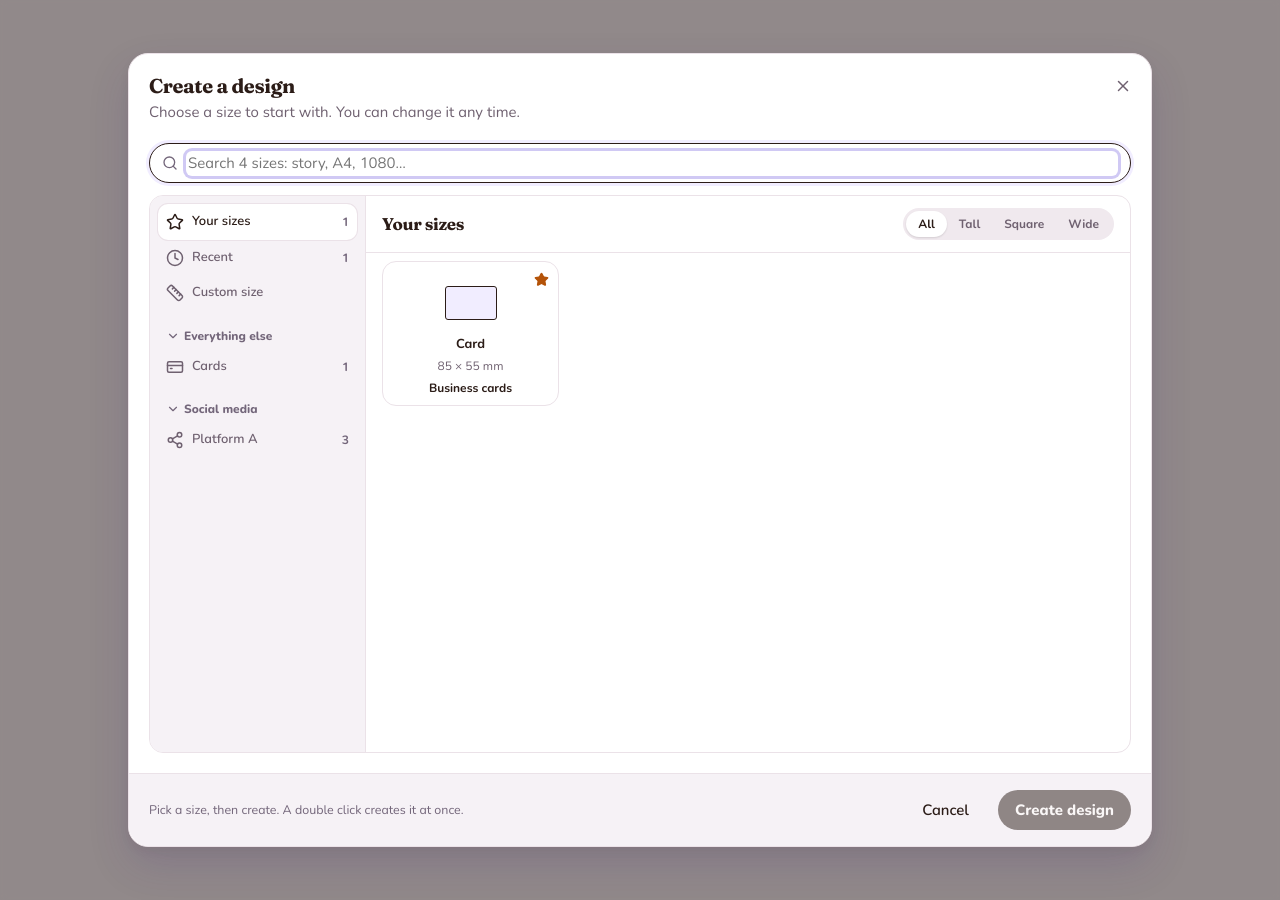
Scenario: Create a design dialog › pins a size to your sizes and shows recent ones
The image size is (1280, 900).
Click the button "Recent 1". click: coordinates (258, 258)
box: top-left (158, 240), bottom-right (357, 275)
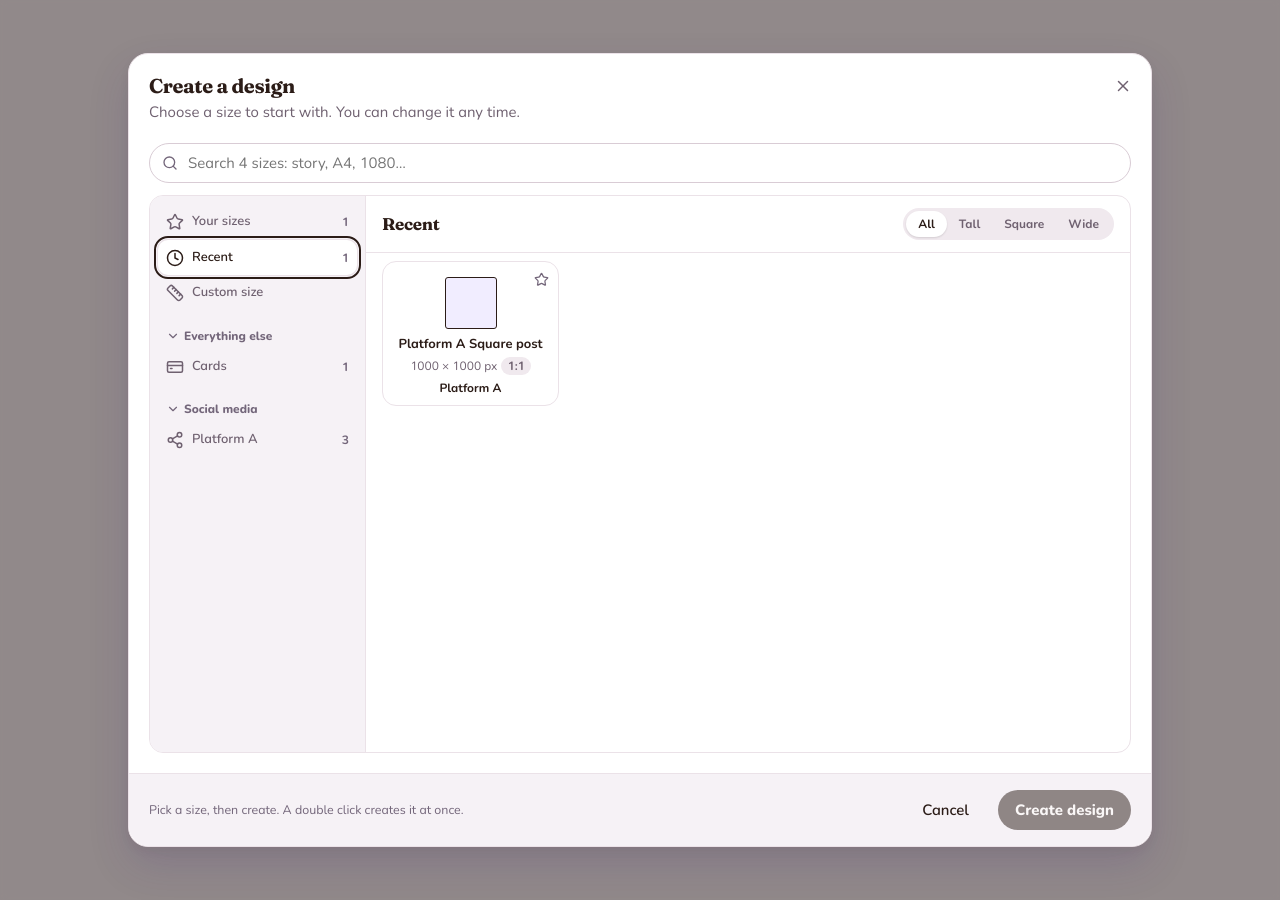
Click the button named "Add to your sizes". click: coordinates (541, 279)
box: top-left (527, 265), bottom-right (555, 293)
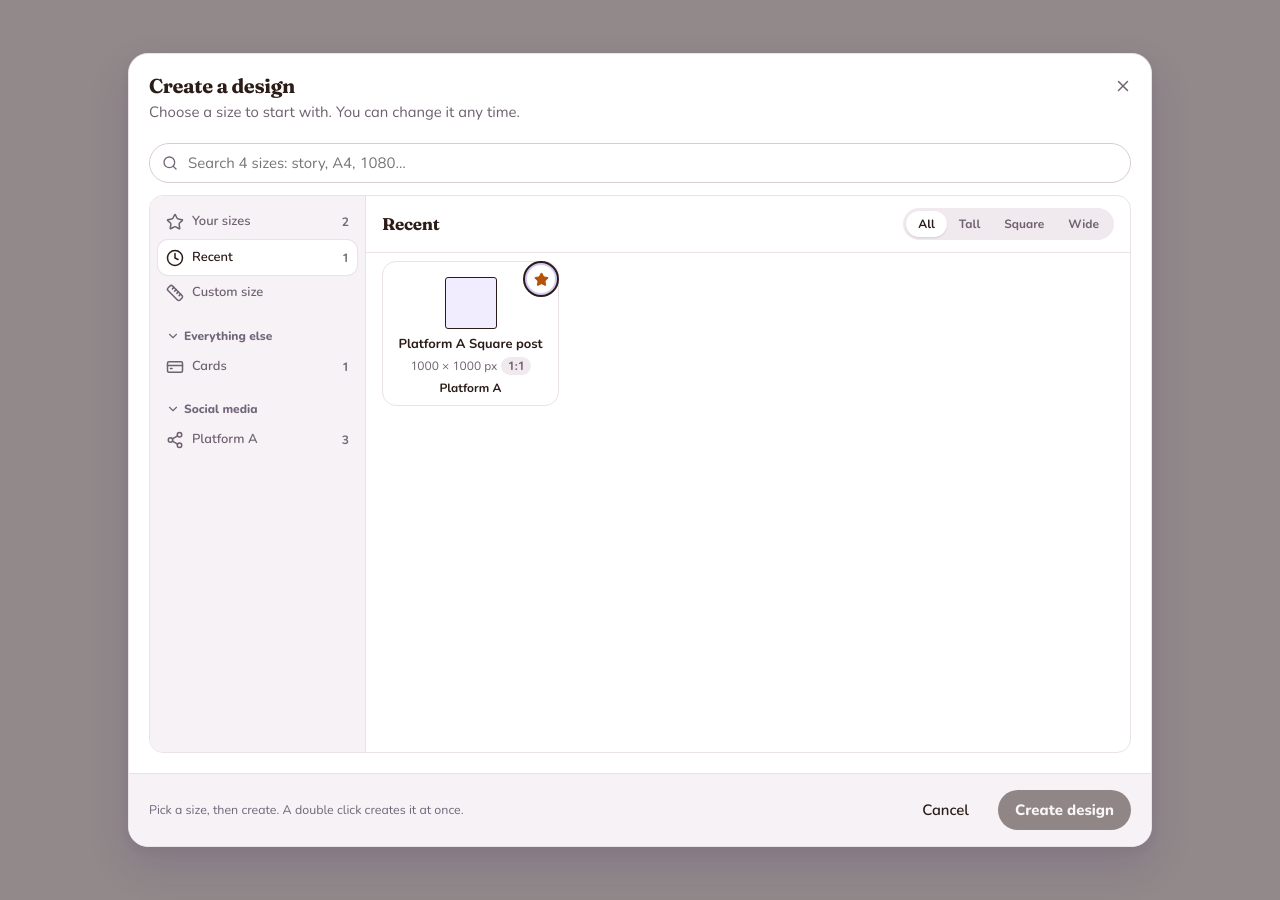
Click the button "Your sizes 2". click: coordinates (258, 222)
box: top-left (158, 204), bottom-right (357, 240)
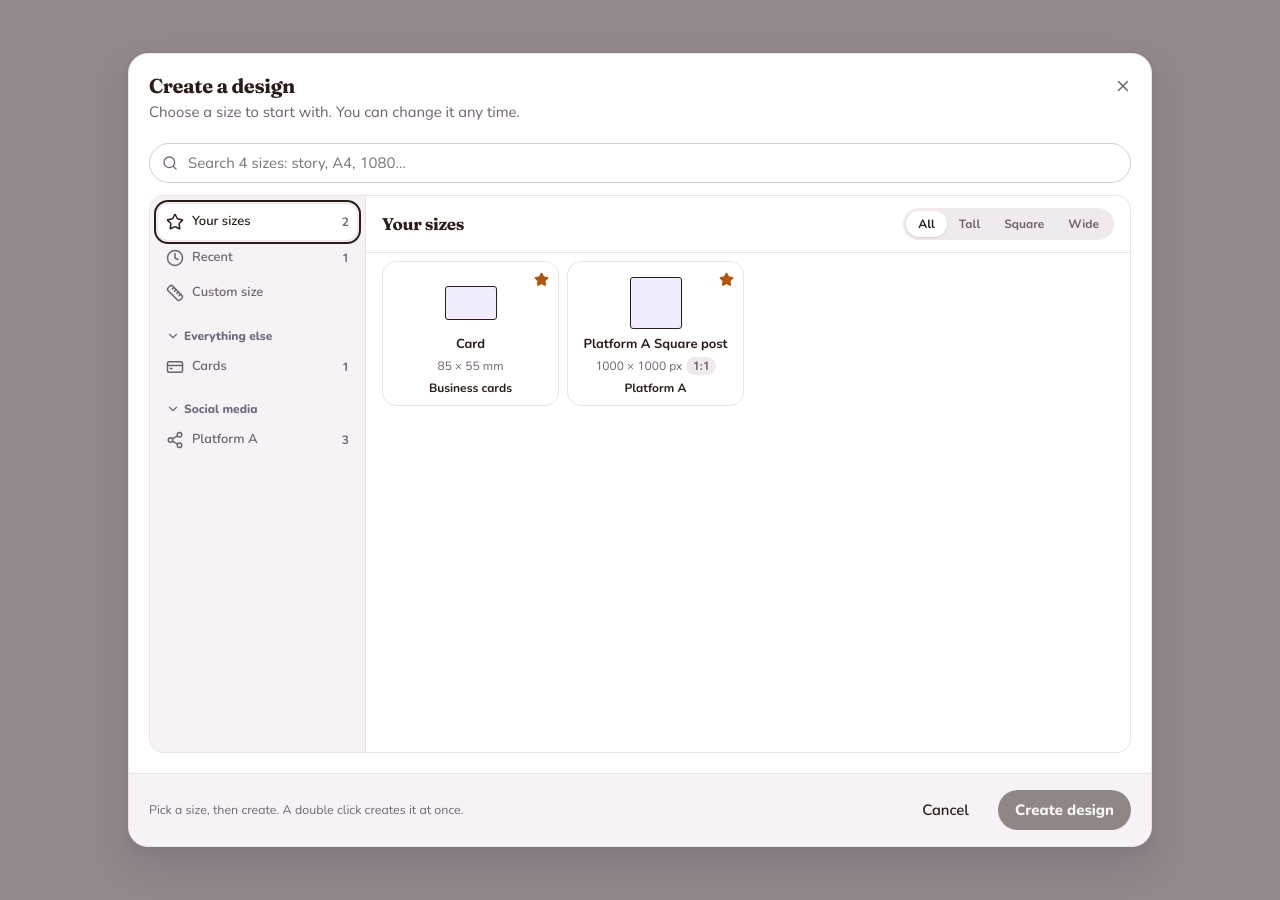
Click the 1st button named "Remove from your sizes". click: coordinates (541, 279)
box: top-left (527, 265), bottom-right (555, 293)
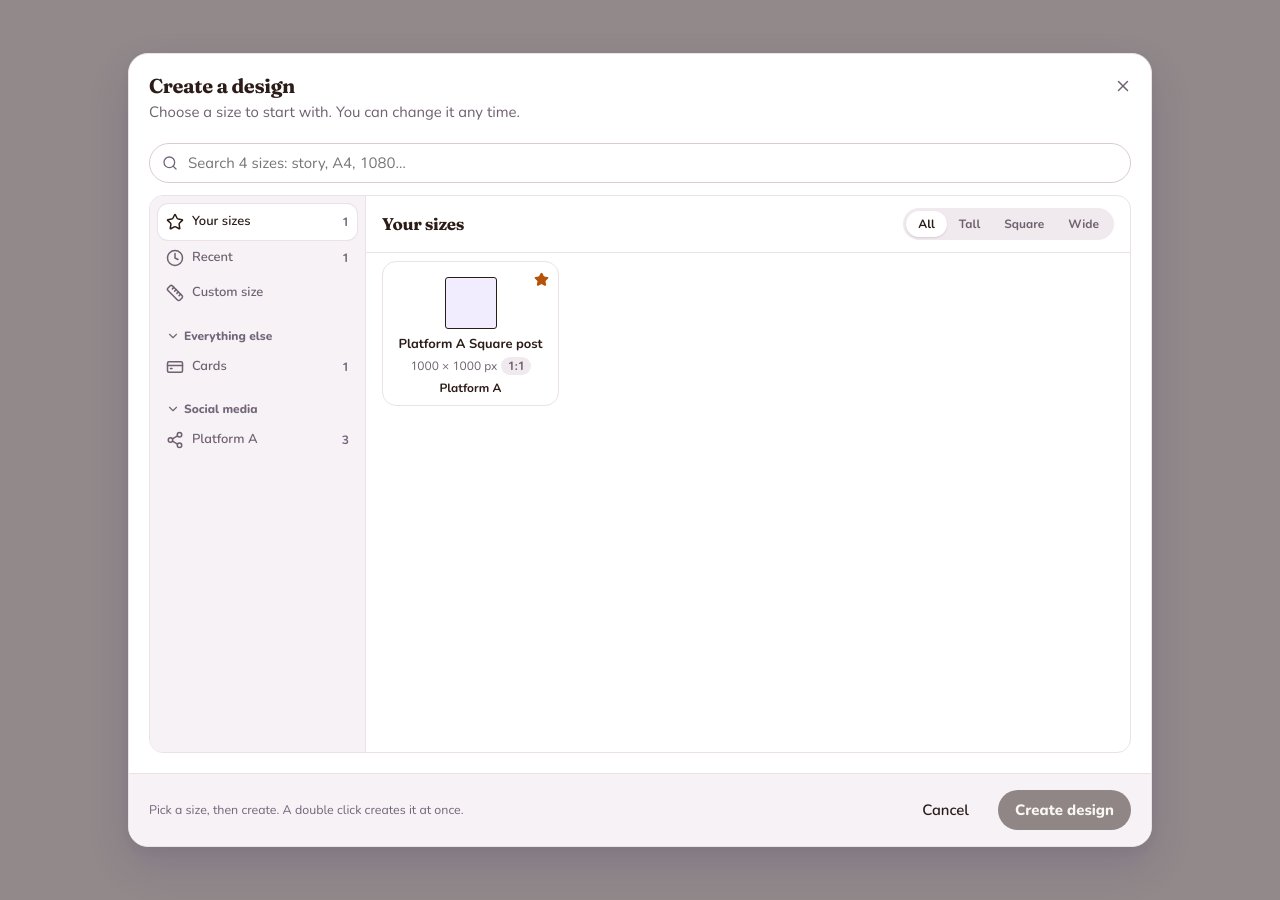
// With none left, it says how to add one.
Click the button named "Remove from your sizes". click: coordinates (541, 279)
box: top-left (527, 265), bottom-right (555, 293)
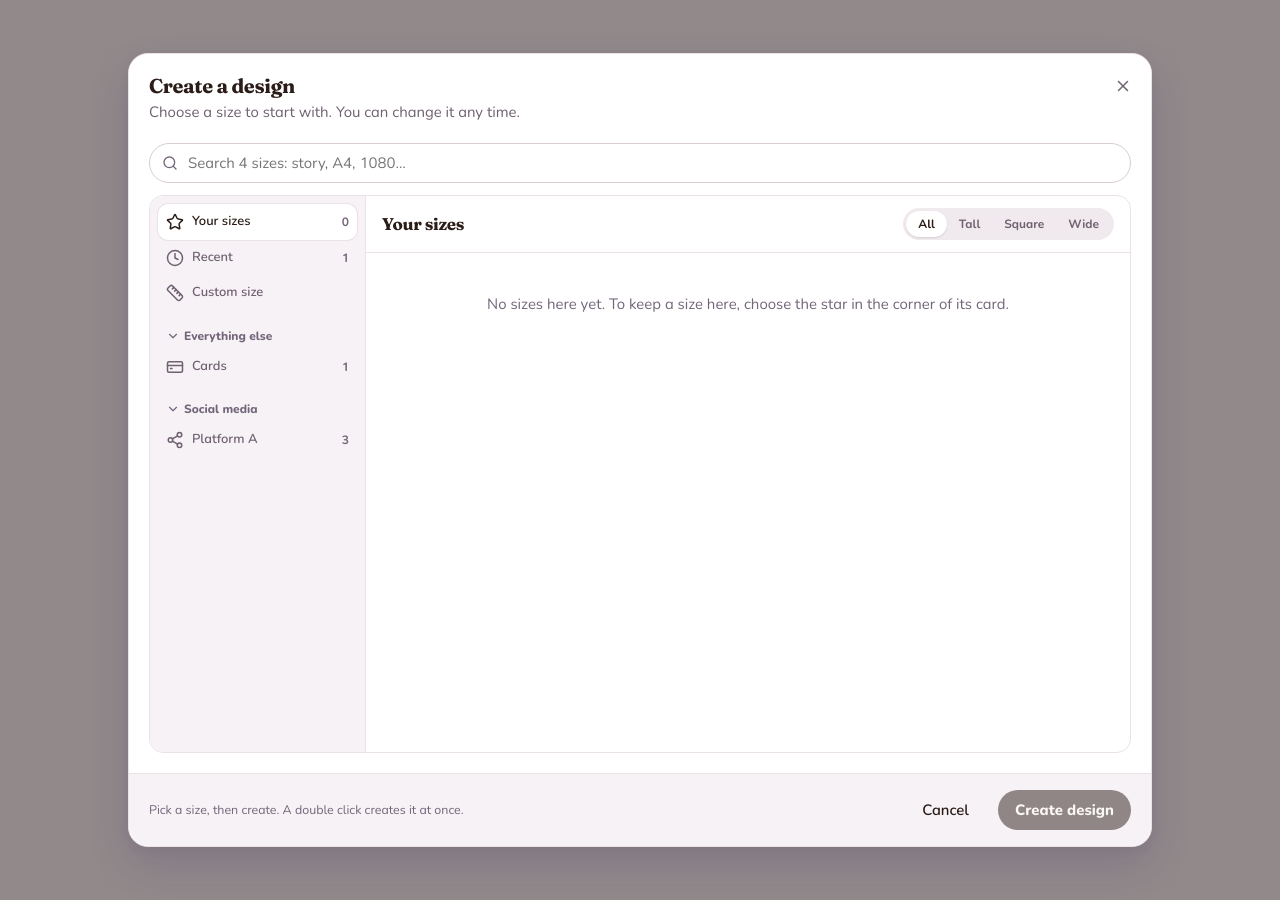
expect the text "choose the star in the corner of its card" is shown: met, box top-left (487, 294), bottom-right (1009, 314)
